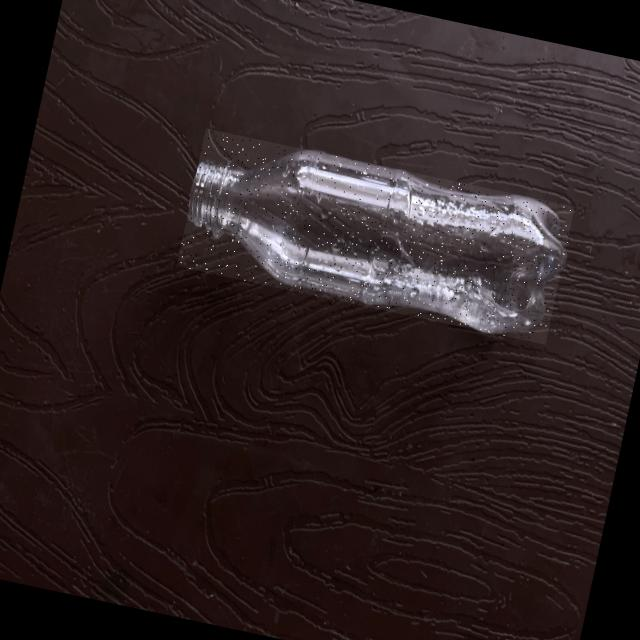PET_With_Liquid: (189, 150, 563, 331)
